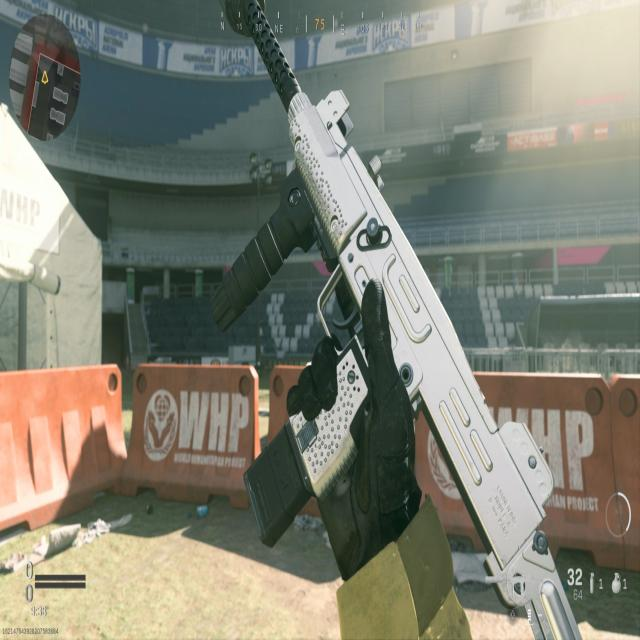SMG: (208, 0, 582, 640)
